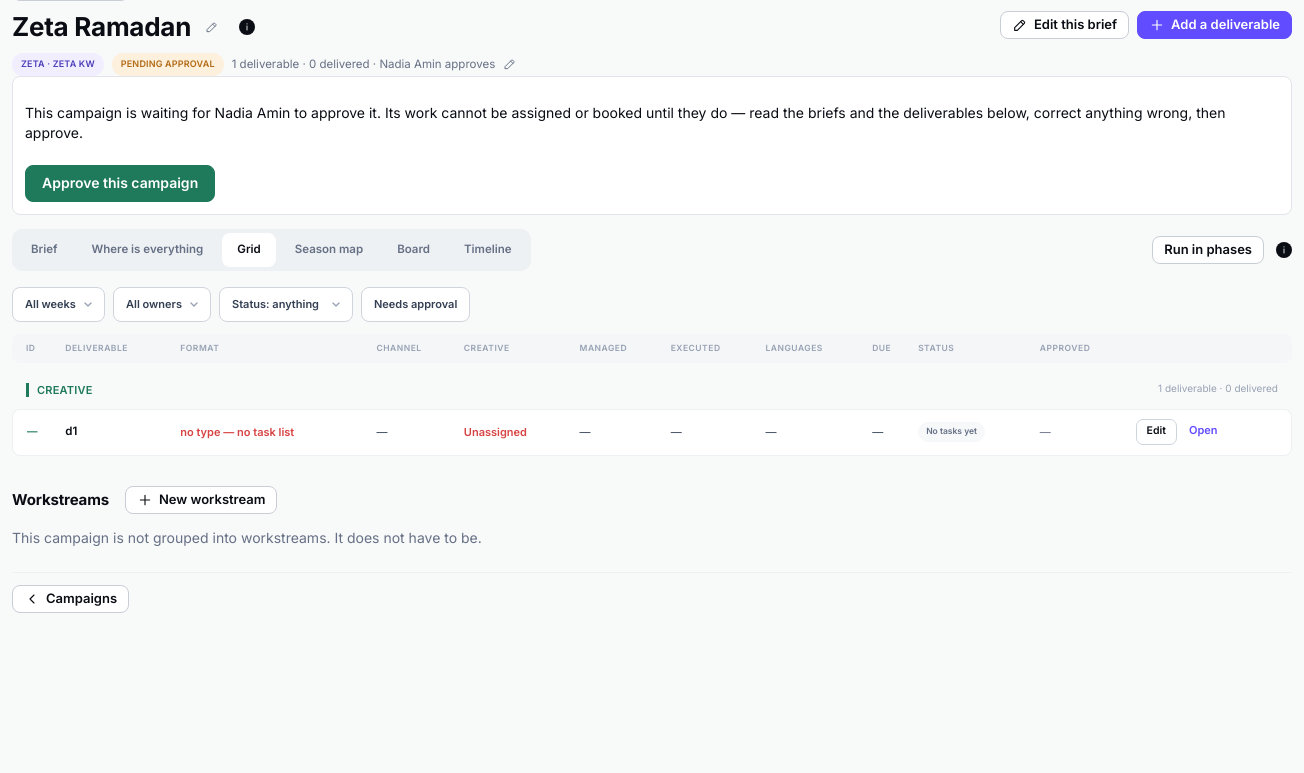
Test: CampaignPage (ADR-0048 d.9, I16.6) › shows a department brief on Brief, whether or not the department has work yet
The width and height of the screenshot is (1304, 773).
Check: the row with test id "campaign-grid-group-d-creative" is shown, box x1=12 y1=369 x2=1292 y2=403
Click the tab with test id "campaign-tab-brief". click: {"x": 44, "y": 250}
box: x1=16 y1=233 x2=72 y2=267
(page scrolled)
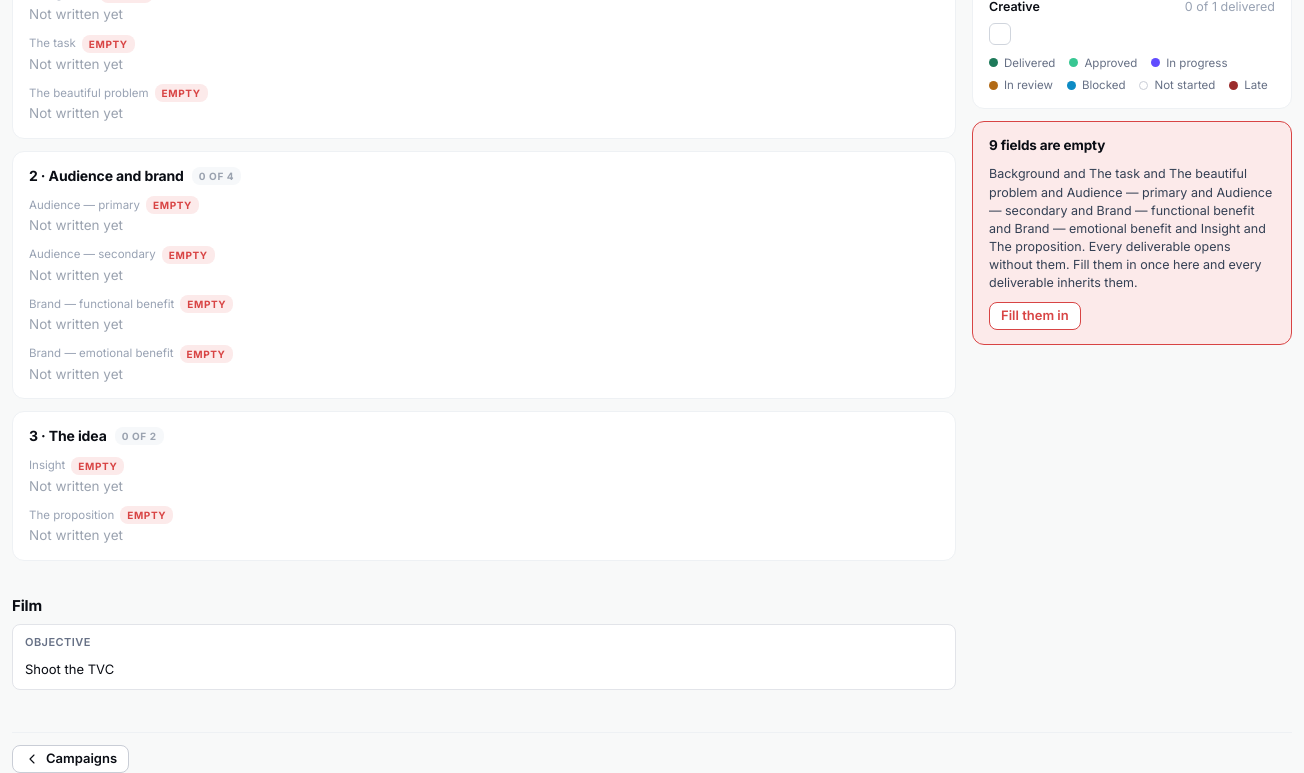
Check: the element with test id "campaign-department-brief-d-film" shows "Shoot the TVC", box x1=25 y1=661 x2=114 y2=677
